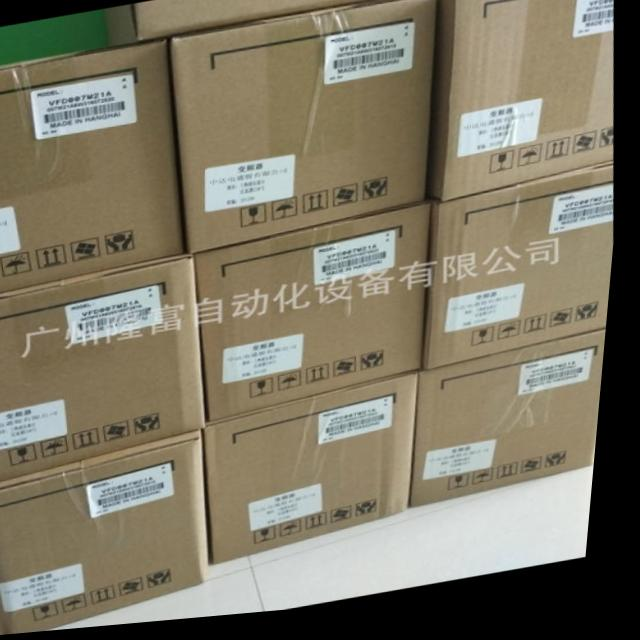box: (171, 0, 434, 258), (198, 207, 436, 424), (0, 255, 215, 485), (0, 41, 191, 294), (0, 432, 223, 636), (211, 378, 426, 569), (429, 169, 618, 381), (430, 0, 616, 211), (419, 340, 613, 516), (101, 0, 417, 50)
